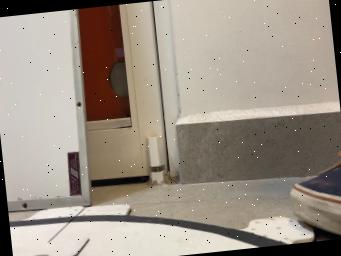street: (9, 215, 288, 256)
